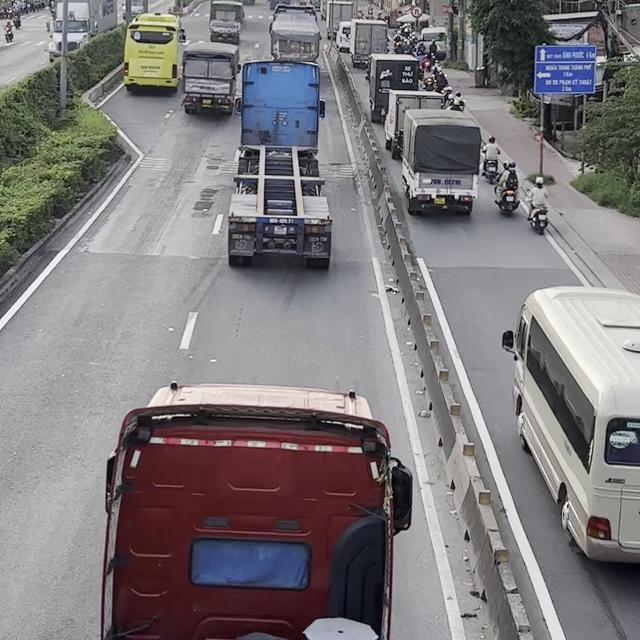bus: (501, 284, 639, 565), (122, 12, 185, 92)
motorcycle: (526, 188, 549, 235), (495, 184, 520, 217), (482, 159, 499, 185), (423, 75, 436, 91)
truck: (99, 380, 413, 639), (226, 58, 332, 269), (397, 108, 482, 216), (380, 89, 445, 161), (181, 39, 242, 115), (365, 53, 420, 123), (269, 3, 322, 61), (349, 18, 388, 68), (208, 0, 244, 44)
